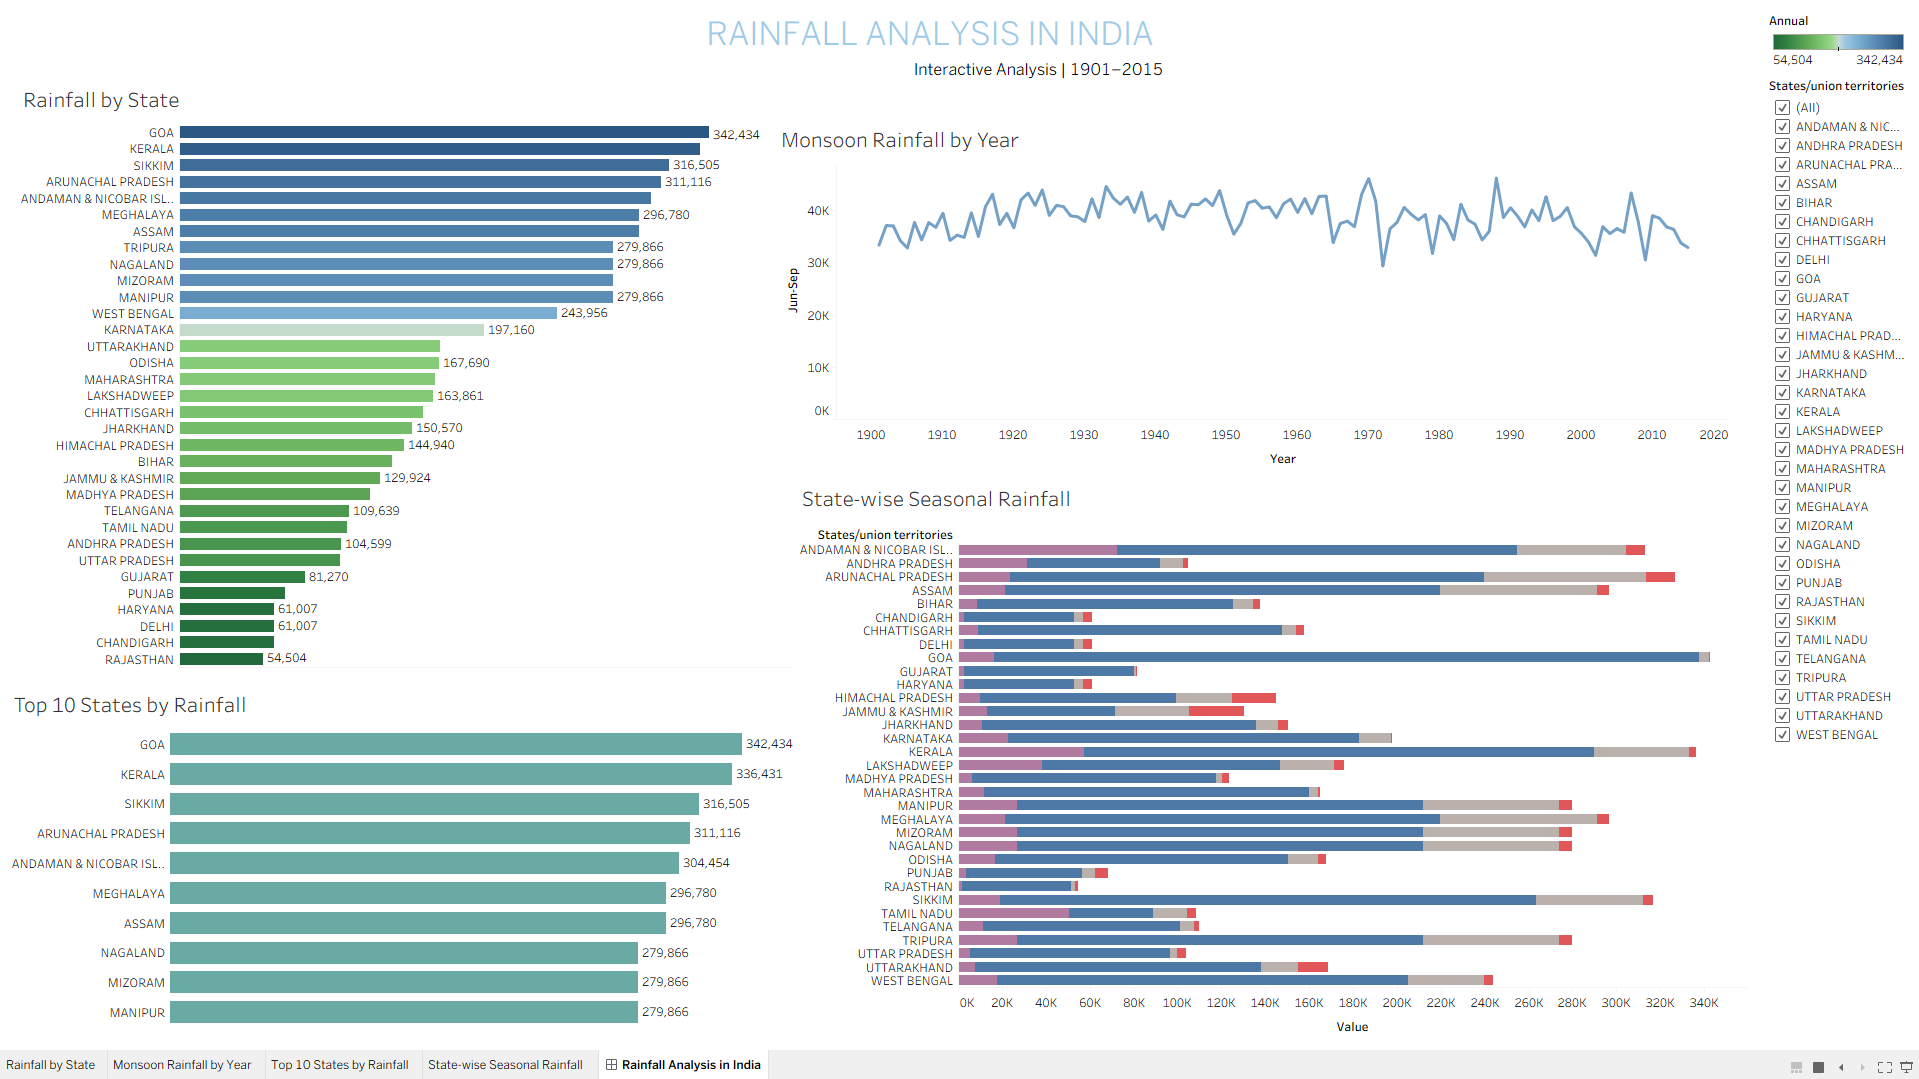

The page's visual inventory and layout, read from the dashboard file:
{"tool":"tableau","page":{"name":"Rainfall Analysis in India","canvas":[1000,1000],"units":"permille","ordinal":0},"visuals":[{"type":"text","box":[218.3,1.1,532.5,61.4]},{"type":"legend","title":"Rainfall by State","param":"[federated.1qzw0k61sbznd815dq28e1r8ppue].[sum:ANNUAL:qk]","box":[909.3,8.9,86,72.5]},{"type":"text","box":[464,38,153.9,55.8]},{"type":"worksheet","title":"Rainfall by State","mark":"Automatic","rows":["States/union territories"],"cols":["ANNUAL"],"box":[10,77,402,569.2]},{"type":"filter","title":"Monsoon Rainfall by Year","param":"[federated.1qzw0k61sbznd815dq28e1r8ppue].[none:States/union territories:nk]","box":[909.3,81.5,86,756.7]},{"type":"worksheet","title":"Monsoon Rainfall by Year","mark":"Line","rows":["Jun-Sep"],"cols":["YEAR"],"box":[404.9,115,496.2,335.9]},{"type":"worksheet","title":"State-wise Seasonal Rainfall","mark":"Automatic","rows":["States/union territories"],"box":[415.4,457.6,494.4,535.7]},{"type":"worksheet","title":"Top 10 States by Rainfall","mark":"Automatic","rows":["States/union territories"],"cols":["ANNUAL"],"box":[5.3,651.8,424.8,325.9]}]}

Visuals, with their boxes on the dashboard's canvas, which has no fixed pixel size, in thousandths of its width and height (x1, y1, x2, y2). These are canvas units, not pixel positions in the 1919x1079 screenshot, which may show the page scaled, cropped or inside an application window:
text: crop(218, 1, 751, 62)
"Rainfall by State" legend: crop(909, 9, 995, 81)
text: crop(464, 38, 618, 94)
"Rainfall by State" worksheet: crop(10, 77, 412, 646)
"Monsoon Rainfall by Year" filter: crop(909, 82, 995, 838)
"Monsoon Rainfall by Year" worksheet (Line marks): crop(405, 115, 901, 451)
"State-wise Seasonal Rainfall" worksheet: crop(415, 458, 910, 993)
"Top 10 States by Rainfall" worksheet: crop(5, 652, 430, 978)
